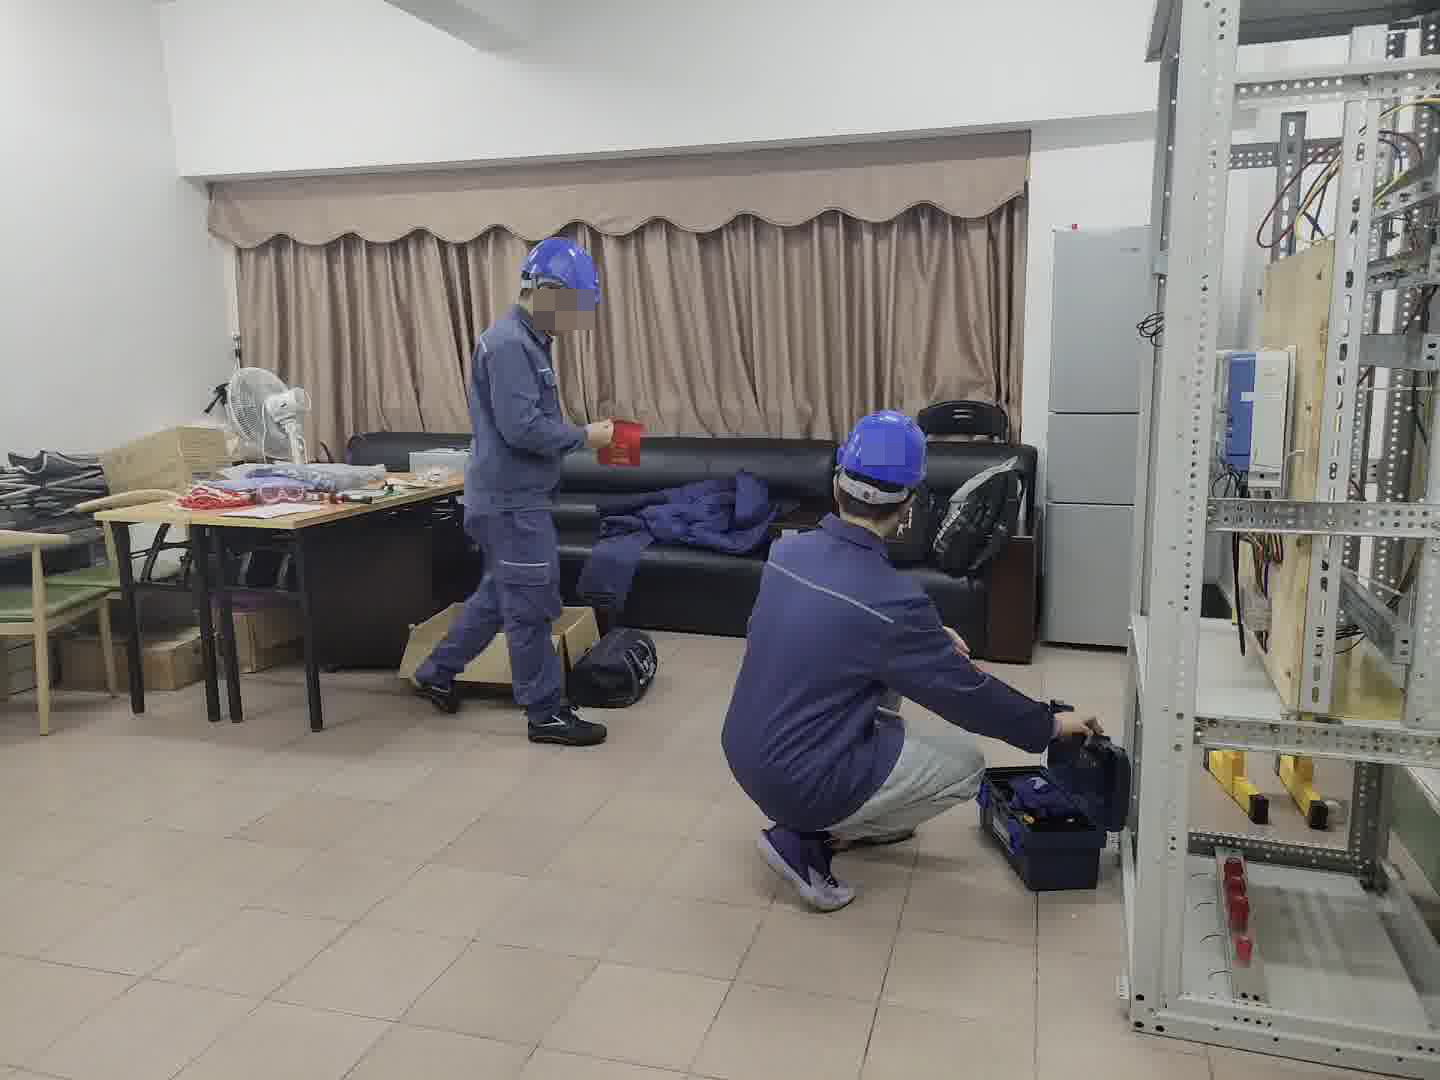downcloth: (833, 737, 981, 857)
downsuit: (430, 513, 568, 704)
halt: (831, 409, 928, 523), (517, 235, 602, 323)
hand: (1048, 703, 1091, 747), (936, 624, 971, 659)
inear: (526, 278, 566, 326)
person: (723, 416, 1101, 903), (416, 228, 608, 732)
upsuit: (724, 518, 981, 826), (462, 306, 576, 501)
wglove: (584, 421, 618, 452)
